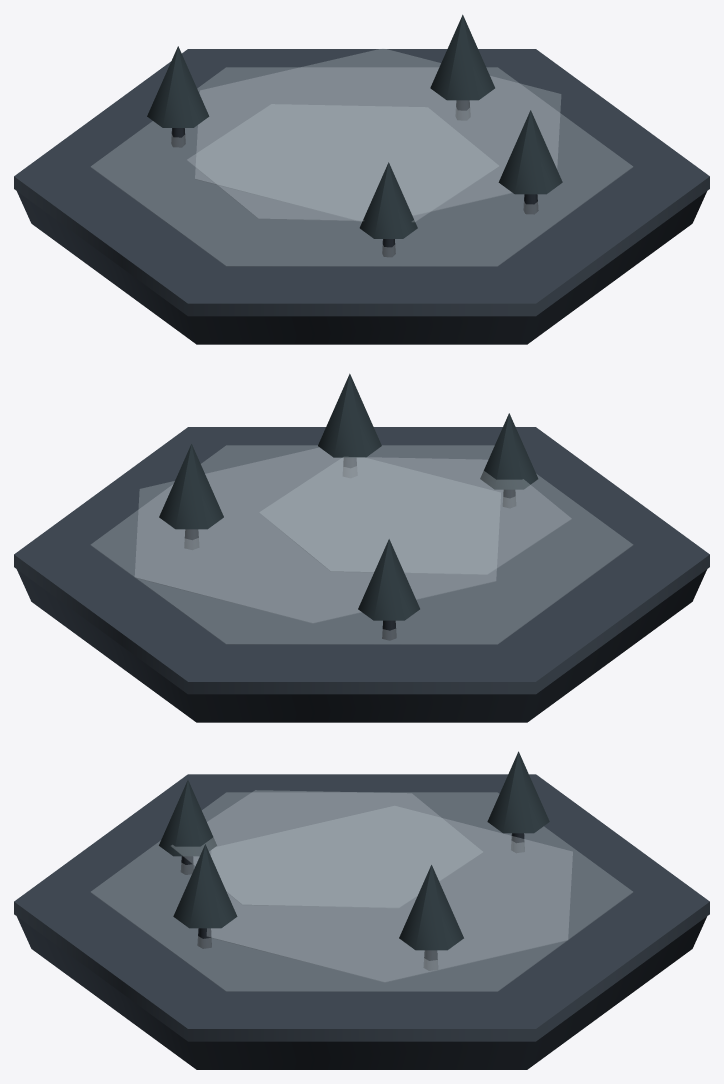
Rendered from tile_fog.glb.
3 views of the same model, one above another, from view 1: azimuth 30°, elevation 25°; view 2: azimuth 150°, elevation 25°; view 3: azimuth 270°, elevation 25° (orthographic).
Visible parts, largest first — view 1: ground, fog_layer_0, fog_layer_1, fog_layer_2, ground_soil, deco_silhouette_0_crown, deco_silhouette_3_crown, deco_silhouette_1_crown, deco_silhouette_2_crown; view 2: ground, fog_layer_0, fog_layer_1, fog_layer_2, ground_soil, deco_silhouette_0_crown, deco_silhouette_3_crown, deco_silhouette_1_crown, deco_silhouette_2_crown; view 3: ground, fog_layer_0, fog_layer_1, fog_layer_2, ground_soil, deco_silhouette_0_crown, deco_silhouette_3_crown, deco_silhouette_1_crown, deco_silhouette_2_crown.
Boxes of the visible parts, x1=… form: ground: x1=14, y1=49, x2=709, y2=316; fog_layer_0: x1=91, y1=67, x2=632, y2=266; fog_layer_1: x1=195, y1=48, x2=560, y2=221; fog_layer_2: x1=187, y1=104, x2=499, y2=221; ground_soil: x1=17, y1=191, x2=706, y2=344; deco_silhouette_0_crown: x1=430, y1=14, x2=494, y2=100; deco_silhouette_3_crown: x1=498, y1=110, x2=562, y2=194; deco_silhouette_1_crown: x1=147, y1=46, x2=209, y2=127; deco_silhouette_2_crown: x1=359, y1=162, x2=417, y2=238; ground: x1=14, y1=427, x2=709, y2=694; fog_layer_0: x1=91, y1=445, x2=632, y2=644; fog_layer_1: x1=135, y1=447, x2=500, y2=623; fog_layer_2: x1=259, y1=457, x2=571, y2=574; ground_soil: x1=16, y1=569, x2=707, y2=722; deco_silhouette_0_crown: x1=159, y1=444, x2=223, y2=529; deco_silhouette_3_crown: x1=318, y1=373, x2=381, y2=457; deco_silhouette_1_crown: x1=358, y1=539, x2=419, y2=620; deco_silhouette_2_crown: x1=480, y1=413, x2=538, y2=489; ground: x1=14, y1=774, x2=709, y2=1041; fog_layer_0: x1=91, y1=792, x2=632, y2=991; fog_layer_1: x1=207, y1=806, x2=572, y2=982; fog_layer_2: x1=171, y1=790, x2=483, y2=907; ground_soil: x1=17, y1=916, x2=706, y2=1069; deco_silhouette_0_crown: x1=399, y1=865, x2=463, y2=950; deco_silhouette_3_crown: x1=173, y1=844, x2=237, y2=928; deco_silhouette_1_crown: x1=487, y1=751, x2=549, y2=833; deco_silhouette_2_crown: x1=159, y1=780, x2=216, y2=856.
Bounding box in the file's own units: 1.73 × 0.478 × 2.
